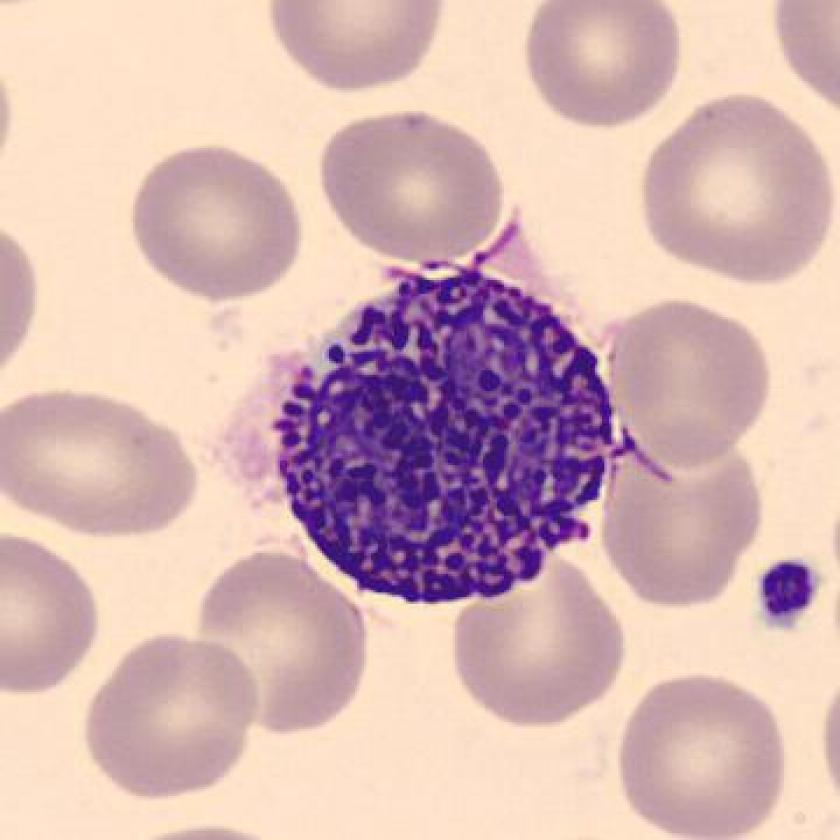basophil: (272, 265, 622, 605)
